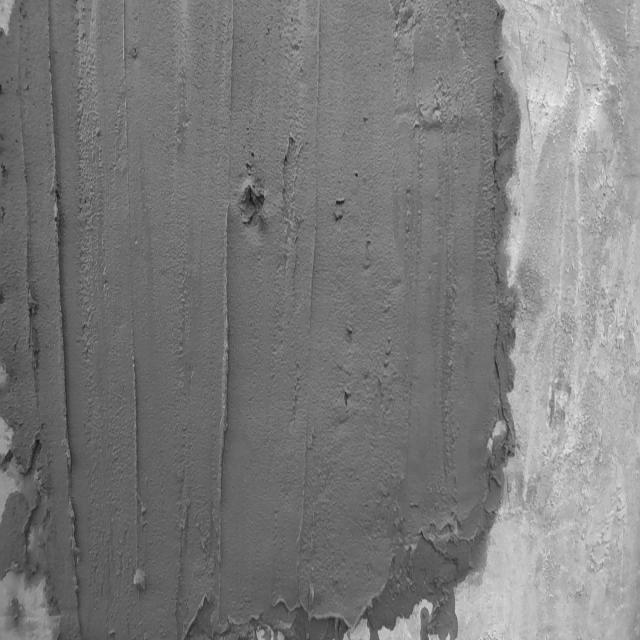trowels marks: (45, 1, 79, 615), (210, 173, 233, 555), (123, 330, 147, 621), (19, 96, 41, 395)
